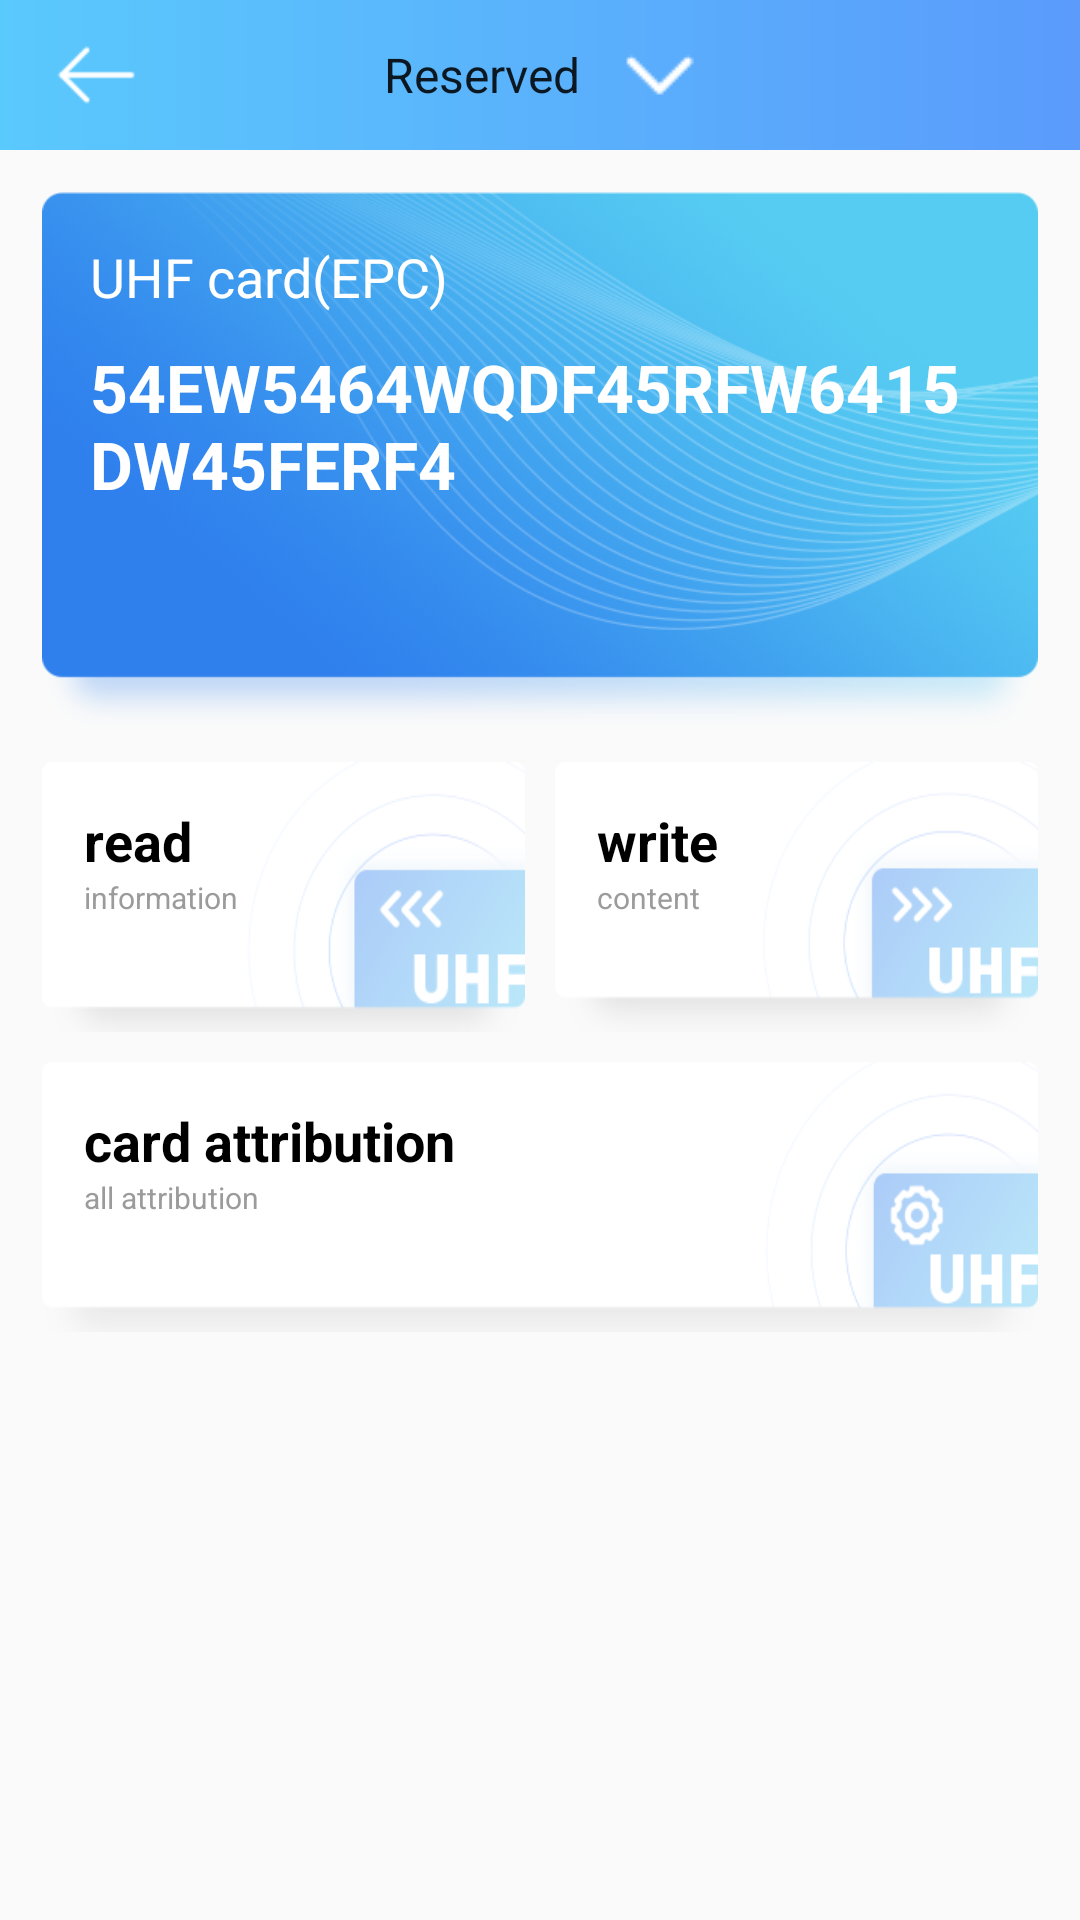

Point at icon controls on the screen. Image size 1080×1920, points as point (x, y).
exit: point (96, 75)
